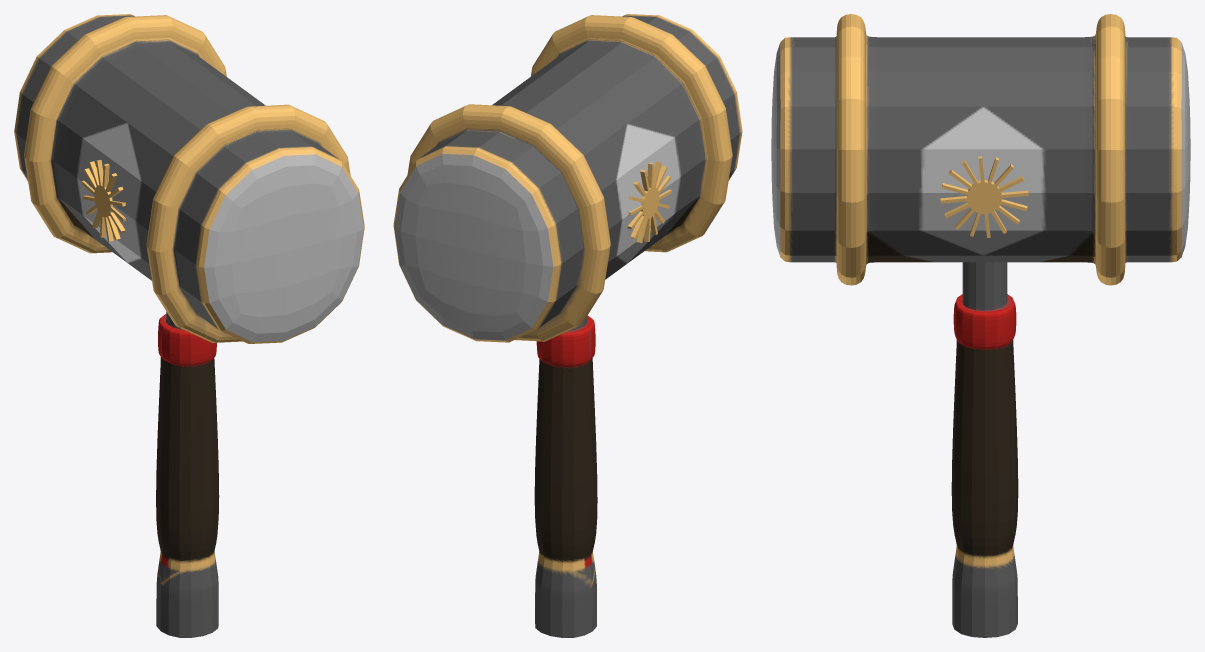
File: Hammerpoprawiony.fbx
The picture shows the model from 3 angles, left to right: view 1: azimuth 30°, elevation 25°; view 2: azimuth 150°, elevation 25°; view 3: azimuth 270°, elevation 25°; orthographic projection. The views are drawn at different scales.
Visible parts, largest first — view 1: Cylinder.005; view 2: Cylinder.005; view 3: Cylinder.005.
Boxes of the visible parts, bbox=[...] form: Cylinder.005: bbox=[14, 14, 364, 637]; Cylinder.005: bbox=[393, 14, 742, 637]; Cylinder.005: bbox=[771, 14, 1190, 637].
Bounding box in the file's own units: 0.9153 × 2.41 × 1.53.
